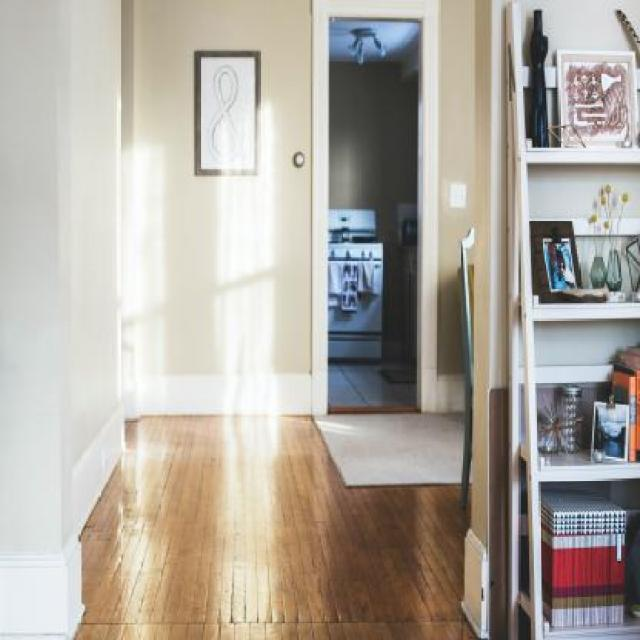Floor: (74, 414, 479, 639), (328, 356, 417, 406)
